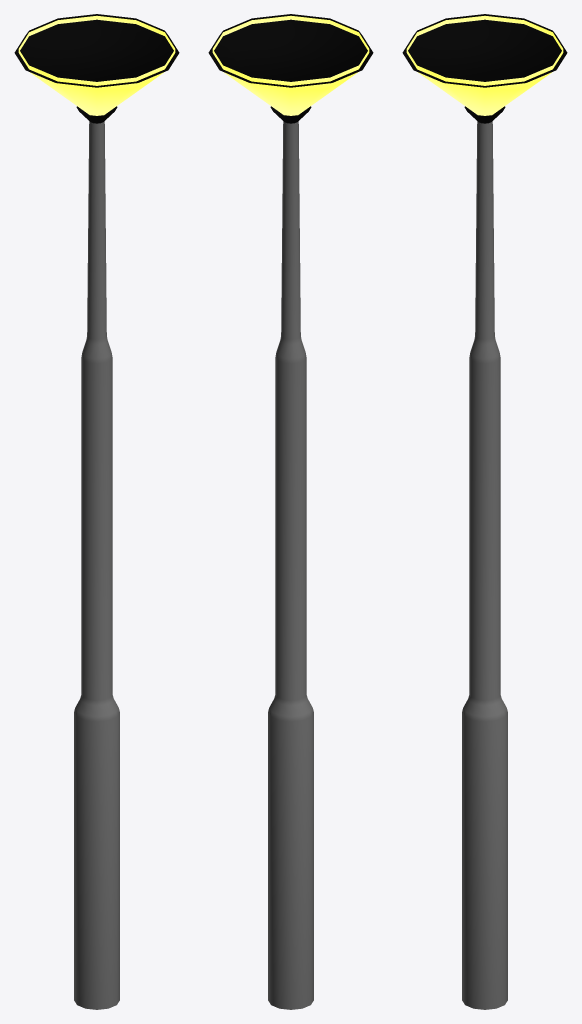
The model's file is Lamppost.fbx.
3 renders of one model, left to right at view 1: azimuth 30°, elevation 25°; view 2: azimuth 150°, elevation 25°; view 3: azimuth 270°, elevation 25°, orthographic.
Visible parts, largest first — view 1: Lamppost; view 2: Lamppost; view 3: Lamppost.
Part boxes in pixels (left/top/right/bottom): Lamppost: left=14, top=14, right=179, bottom=1009; Lamppost: left=208, top=14, right=373, bottom=1009; Lamppost: left=402, top=14, right=567, bottom=1009.
Bounding box in the file's own units: 71.2 × 454 × 71.2.
